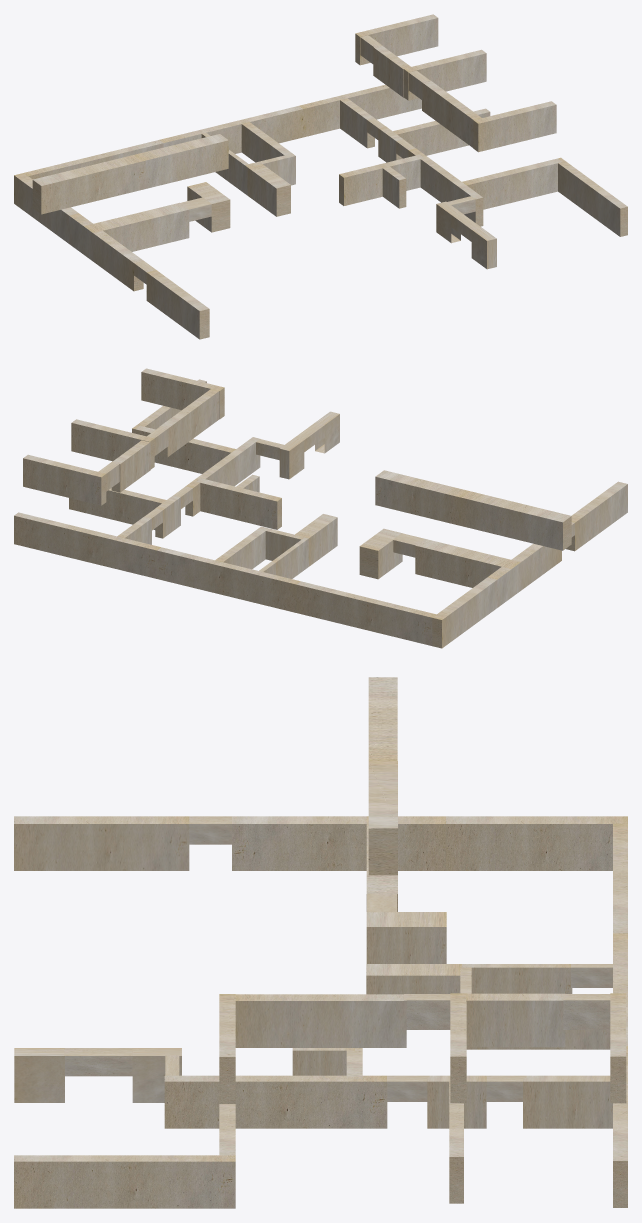
File: tavern_182.gltf
3 views of the same model, one above another, from view 1: azimuth 30°, elevation 25°; view 2: azimuth 150°, elevation 25°; view 3: azimuth 270°, elevation 25° (orthographic). The views are drawn at different scales.
Parts seen in each view (by area): view 1: Box123_Material #170_0.005; view 2: Box123_Material #170_0.005; view 3: Box123_Material #170_0.005.
Boxes of the visible parts, x1=… form: Box123_Material #170_0.005: x1=14, y1=14, x2=627, y2=339; Box123_Material #170_0.005: x1=14, y1=368, x2=627, y2=648; Box123_Material #170_0.005: x1=14, y1=677, x2=627, y2=1208.
Bounding box in the file's own units: 322 × 56.18 × 216.
